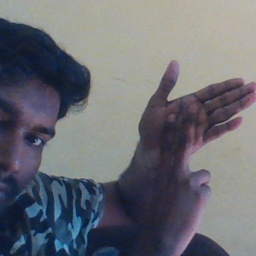N: (131, 58, 256, 192)
